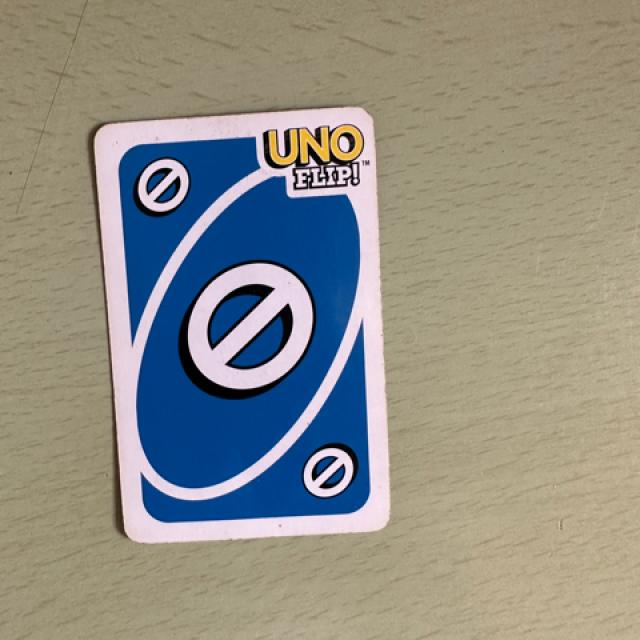lblueskip-20: (112, 137, 211, 234)
